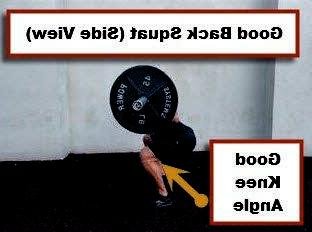Barbell: (130, 100, 142, 112)
